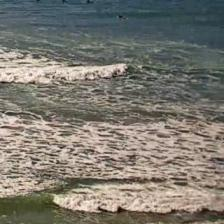surfer: (118, 14, 126, 20), (86, 0, 95, 5), (62, 0, 68, 4), (36, 0, 41, 3)
